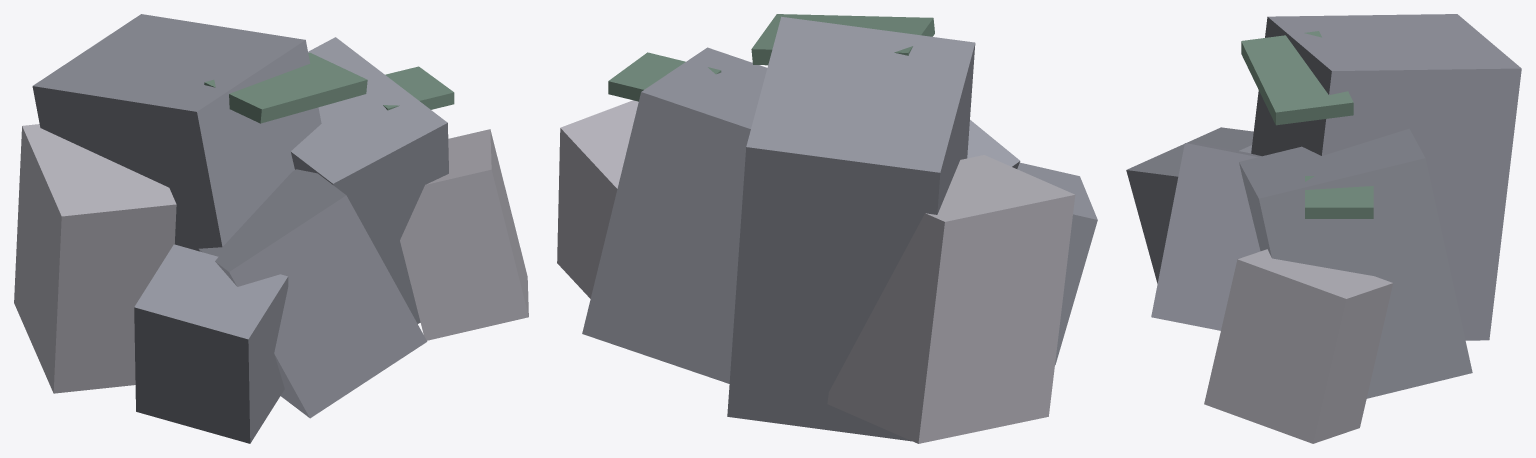
File: rock_cluster.glb
3 views of the same model, side by side, from view 1: azimuth 30°, elevation 25°; view 2: azimuth 150°, elevation 25°; view 3: azimuth 270°, elevation 25° (orthographic). The views are drawn at different scales.
Parts seen in each view (by area): view 1: Gothic Rock Cluster; view 2: Gothic Rock Cluster; view 3: Gothic Rock Cluster.
Part boxes in pixels (<box>): Gothic Rock Cluster: <box>14,14,528,443</box>; Gothic Rock Cluster: <box>557,14,1097,443</box>; Gothic Rock Cluster: <box>1126,14,1521,443</box>.
Size of the model in its own units: 4.55 by 2.9 by 3.45.
